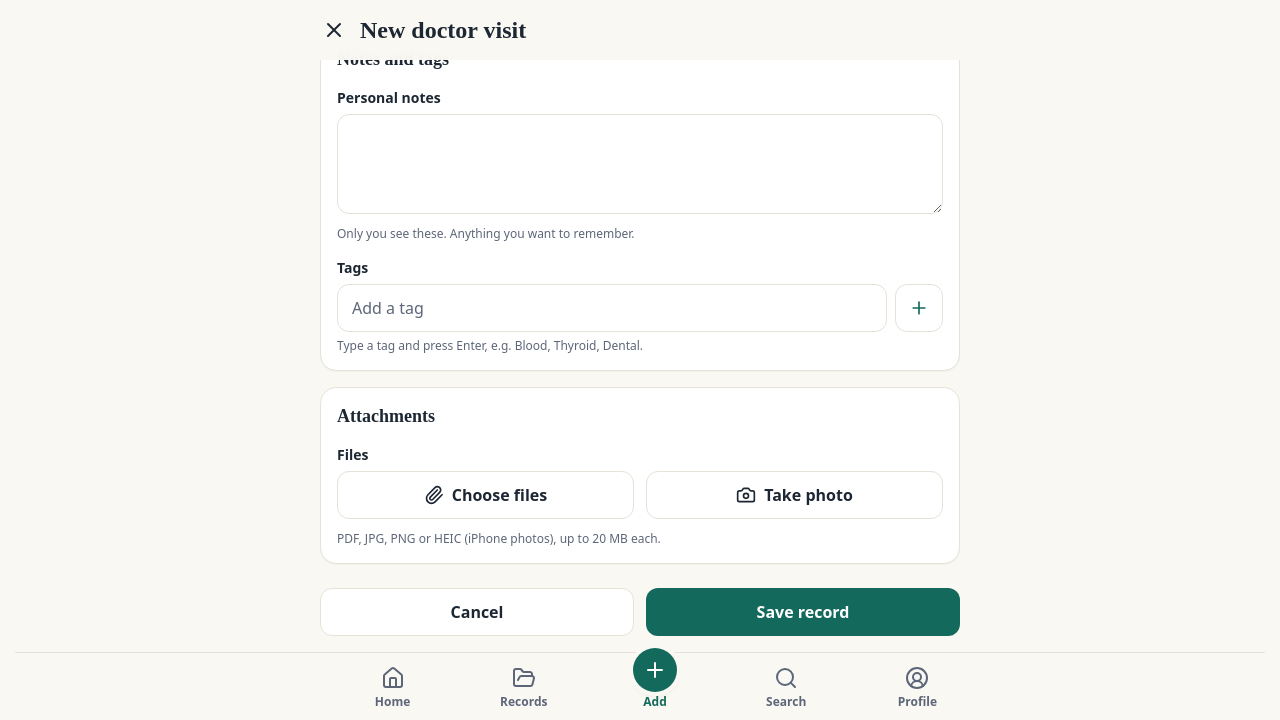
Test case: adding a record › shows the server message when saving fails
(page scrolled)
Step 1. Click the button "Save record" → (803,612), box [646,588,960,636]
(page scrolled)
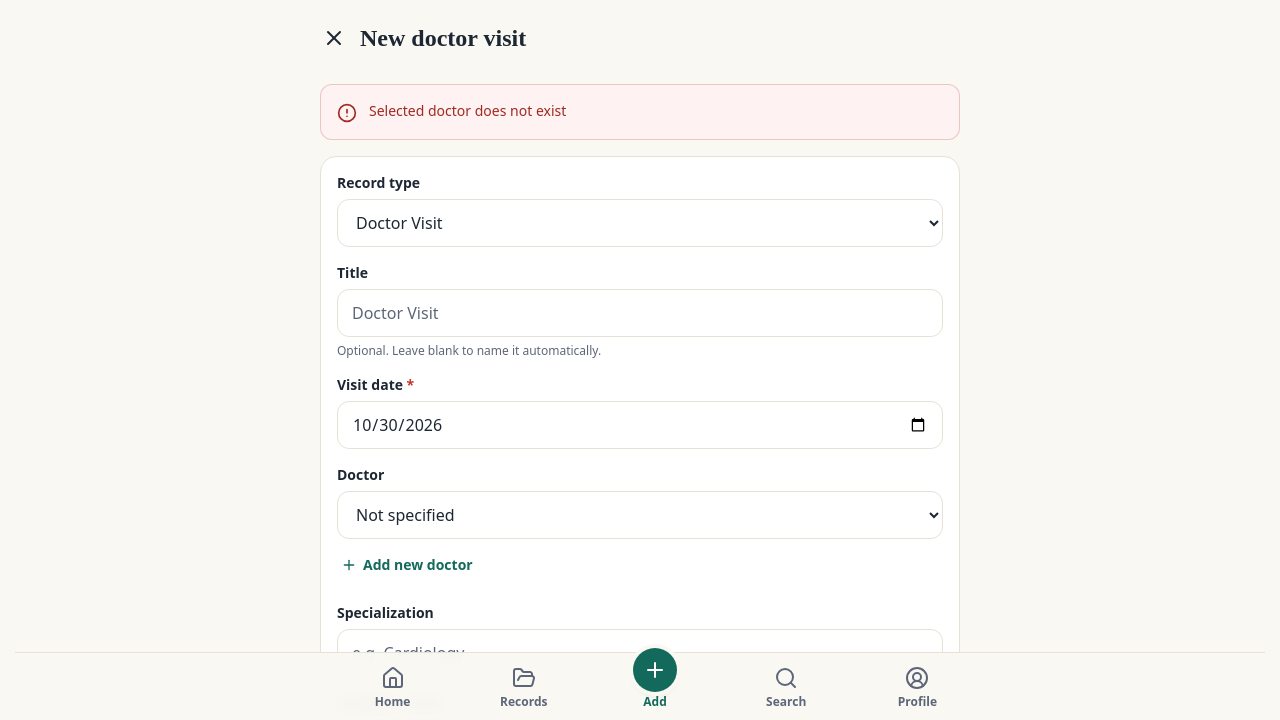
Check: the message reads "Selected doctor does not exist", box [369,101,566,120]
